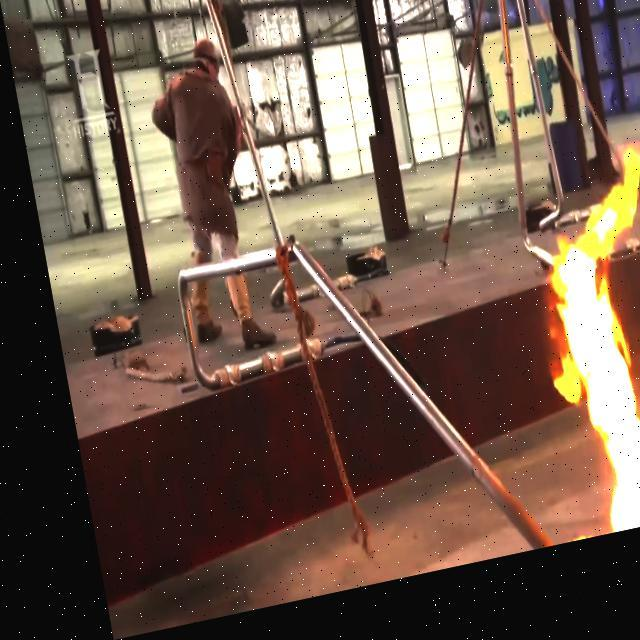Fire: (504, 153, 639, 560)
